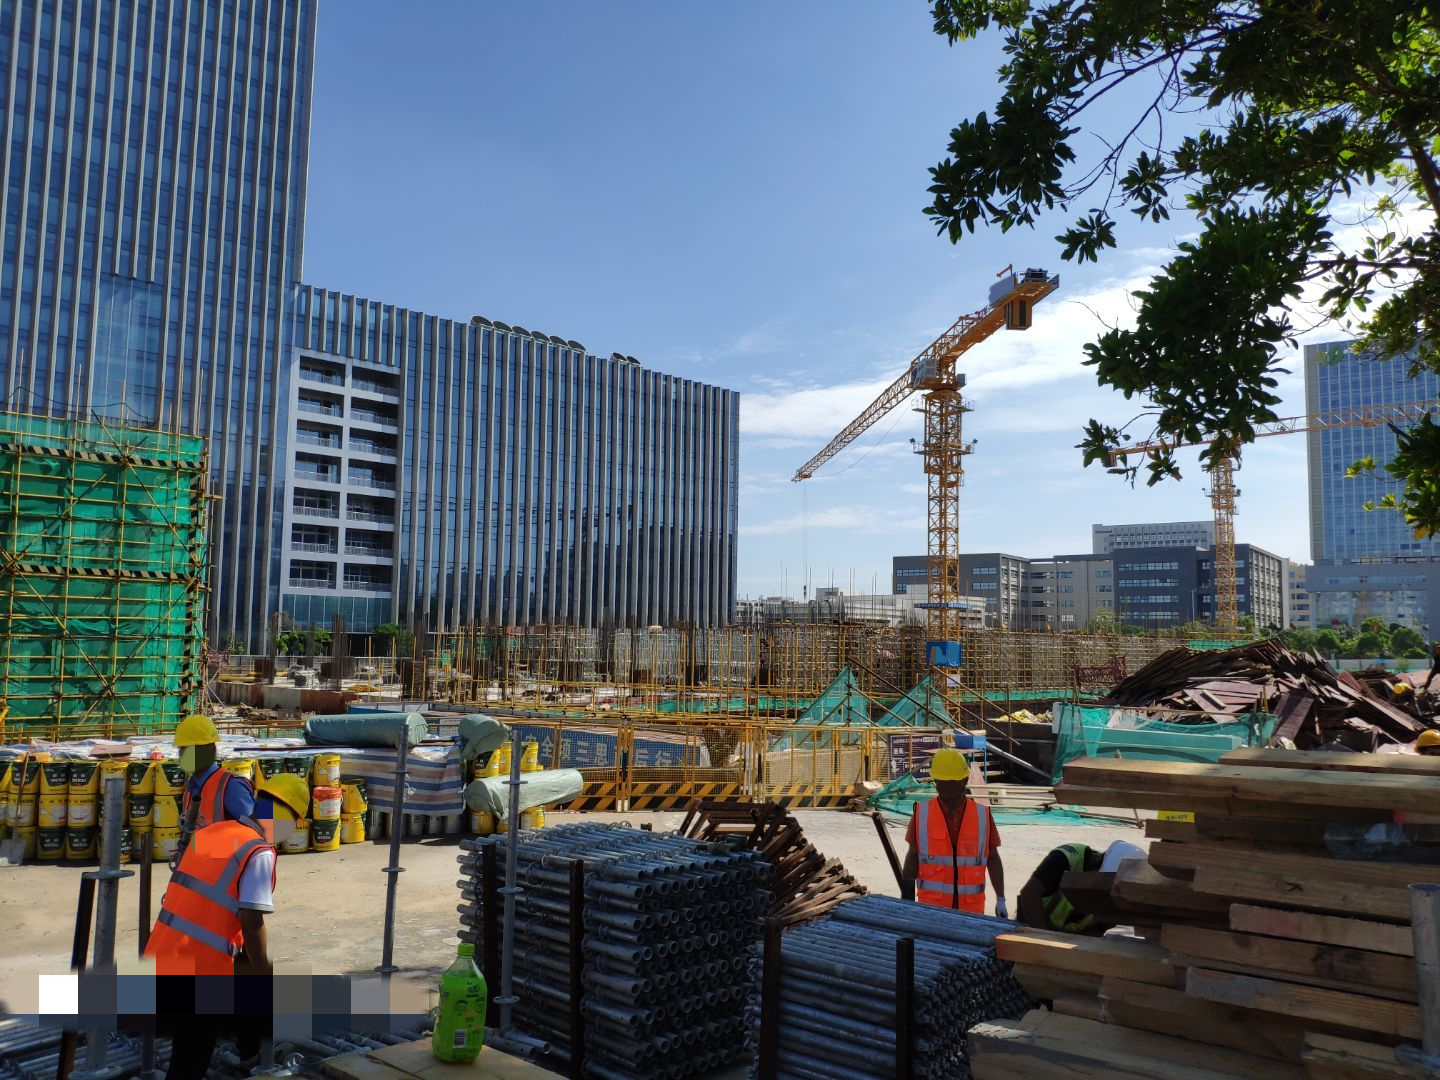board: (1108, 647, 1401, 739)
fence: (545, 716, 748, 806), (744, 721, 875, 802)
helmet: (260, 770, 312, 819), (927, 747, 976, 781), (173, 716, 219, 744)
person: (157, 769, 317, 990), (897, 741, 1026, 930), (169, 716, 235, 817)
scaffold: (455, 824, 763, 1080), (746, 887, 1002, 1080)
slogan: (532, 724, 683, 768)
vest: (157, 819, 276, 977), (908, 797, 1000, 909), (177, 771, 237, 818)
wood: (1034, 731, 1440, 1079)
